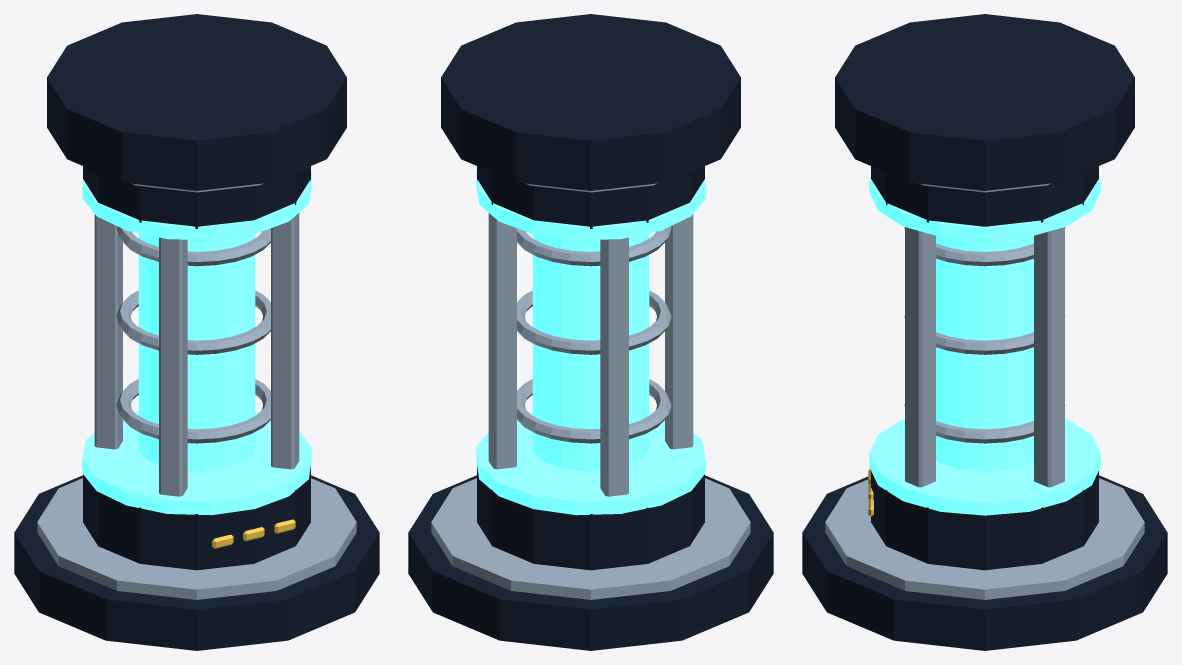
Rendered from reactor_beacon.glb.
3 views of the same model, side by side, from view 1: azimuth 30°, elevation 25°; view 2: azimuth 150°, elevation 25°; view 3: azimuth 270°, elevation 25° (orthographic).
Parts seen in each view (by area): view 1: GEO-Cap, GEO-Foot, GEO-Core, GEO-FootTrim, GEO-LowerHousing, GEO-LowerLight, GEO-CagePost03, GEO-TopHousing, GEO-CagePost04, GEO-CagePost02, GEO-UpperLight, GEO-CoreRing01 (+2 smaller); view 2: GEO-Cap, GEO-Foot, GEO-Core, GEO-FootTrim, GEO-LowerHousing, GEO-LowerLight, GEO-CagePost02, GEO-TopHousing, GEO-CagePost01, GEO-CagePost03, GEO-UpperLight, GEO-CoreRing01 (+2 smaller); view 3: GEO-Cap, GEO-Foot, GEO-Core, GEO-FootTrim, GEO-LowerHousing, GEO-LowerLight, GEO-CagePost01, GEO-CagePost04, GEO-TopHousing, GEO-UpperLight, GEO-CoreRing01, GEO-CoreRing02 (+1 smaller).
Part boxes in pixels (x1,y1,x2,y2): GEO-Cap: (47,14,346,190); GEO-Foot: (14,475,379,650); GEO-Core: (138,233,255,471); GEO-FootTrim: (37,478,356,599); GEO-LowerHousing: (83,466,310,570); GEO-LowerLight: (82,411,311,515); GEO-CagePost03: (159,237,187,496); GEO-TopHousing: (83,166,310,228); GEO-CagePost04: (271,213,299,469); GEO-CagePost02: (94,214,122,449); GEO-UpperLight: (82,171,311,240); GEO-CoreRing01: (116,379,270,443); GEO-Cap: (441,14,740,190); GEO-Foot: (408,475,773,650); GEO-Core: (532,233,649,471); GEO-FootTrim: (431,478,750,599); GEO-LowerHousing: (477,466,704,570); GEO-LowerLight: (476,411,705,515); GEO-CagePost02: (600,237,628,496); GEO-TopHousing: (477,166,704,228); GEO-CagePost01: (488,213,516,469); GEO-CagePost03: (665,214,693,449); GEO-UpperLight: (476,171,705,240); GEO-CoreRing01: (517,379,671,443); GEO-Cap: (835,14,1134,190); GEO-Foot: (802,475,1167,650); GEO-Core: (936,236,1033,471); GEO-FootTrim: (825,478,1144,599); GEO-LowerHousing: (871,471,1098,570); GEO-LowerLight: (869,418,1100,515); GEO-CagePost01: (1034,227,1064,487); GEO-CagePost04: (905,227,935,487); GEO-TopHousing: (871,166,1098,226); GEO-UpperLight: (869,175,1100,240); GEO-CoreRing01: (904,404,1065,443); GEO-CoreRing02: (904,316,1065,354).
Size of the model in its own units: 1.12 by 1.68 by 1.12.
